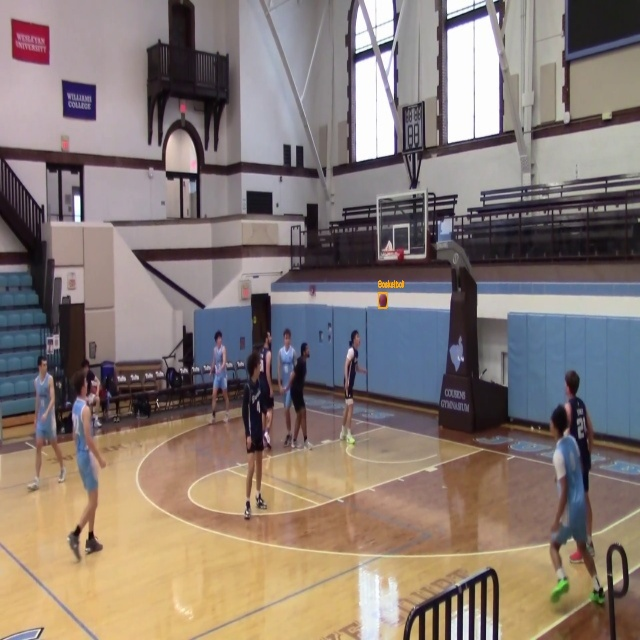Basketball: (378, 293, 387, 308)
